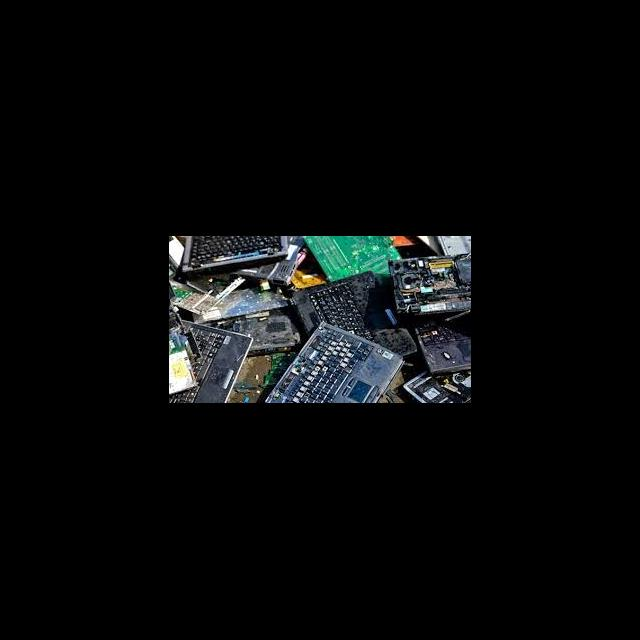metal: (284, 272, 424, 366), (265, 314, 406, 402), (169, 314, 252, 402), (384, 250, 470, 314), (176, 237, 291, 274), (409, 316, 470, 374), (397, 362, 470, 402)
